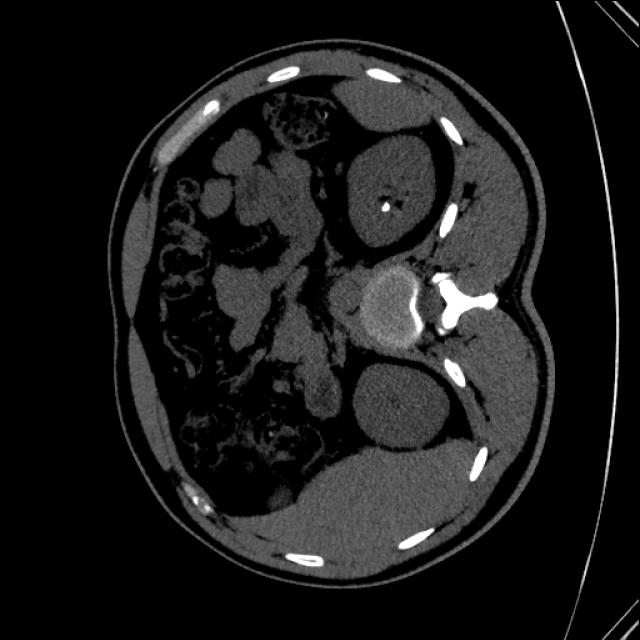kidneystone: (381, 200, 391, 211)
